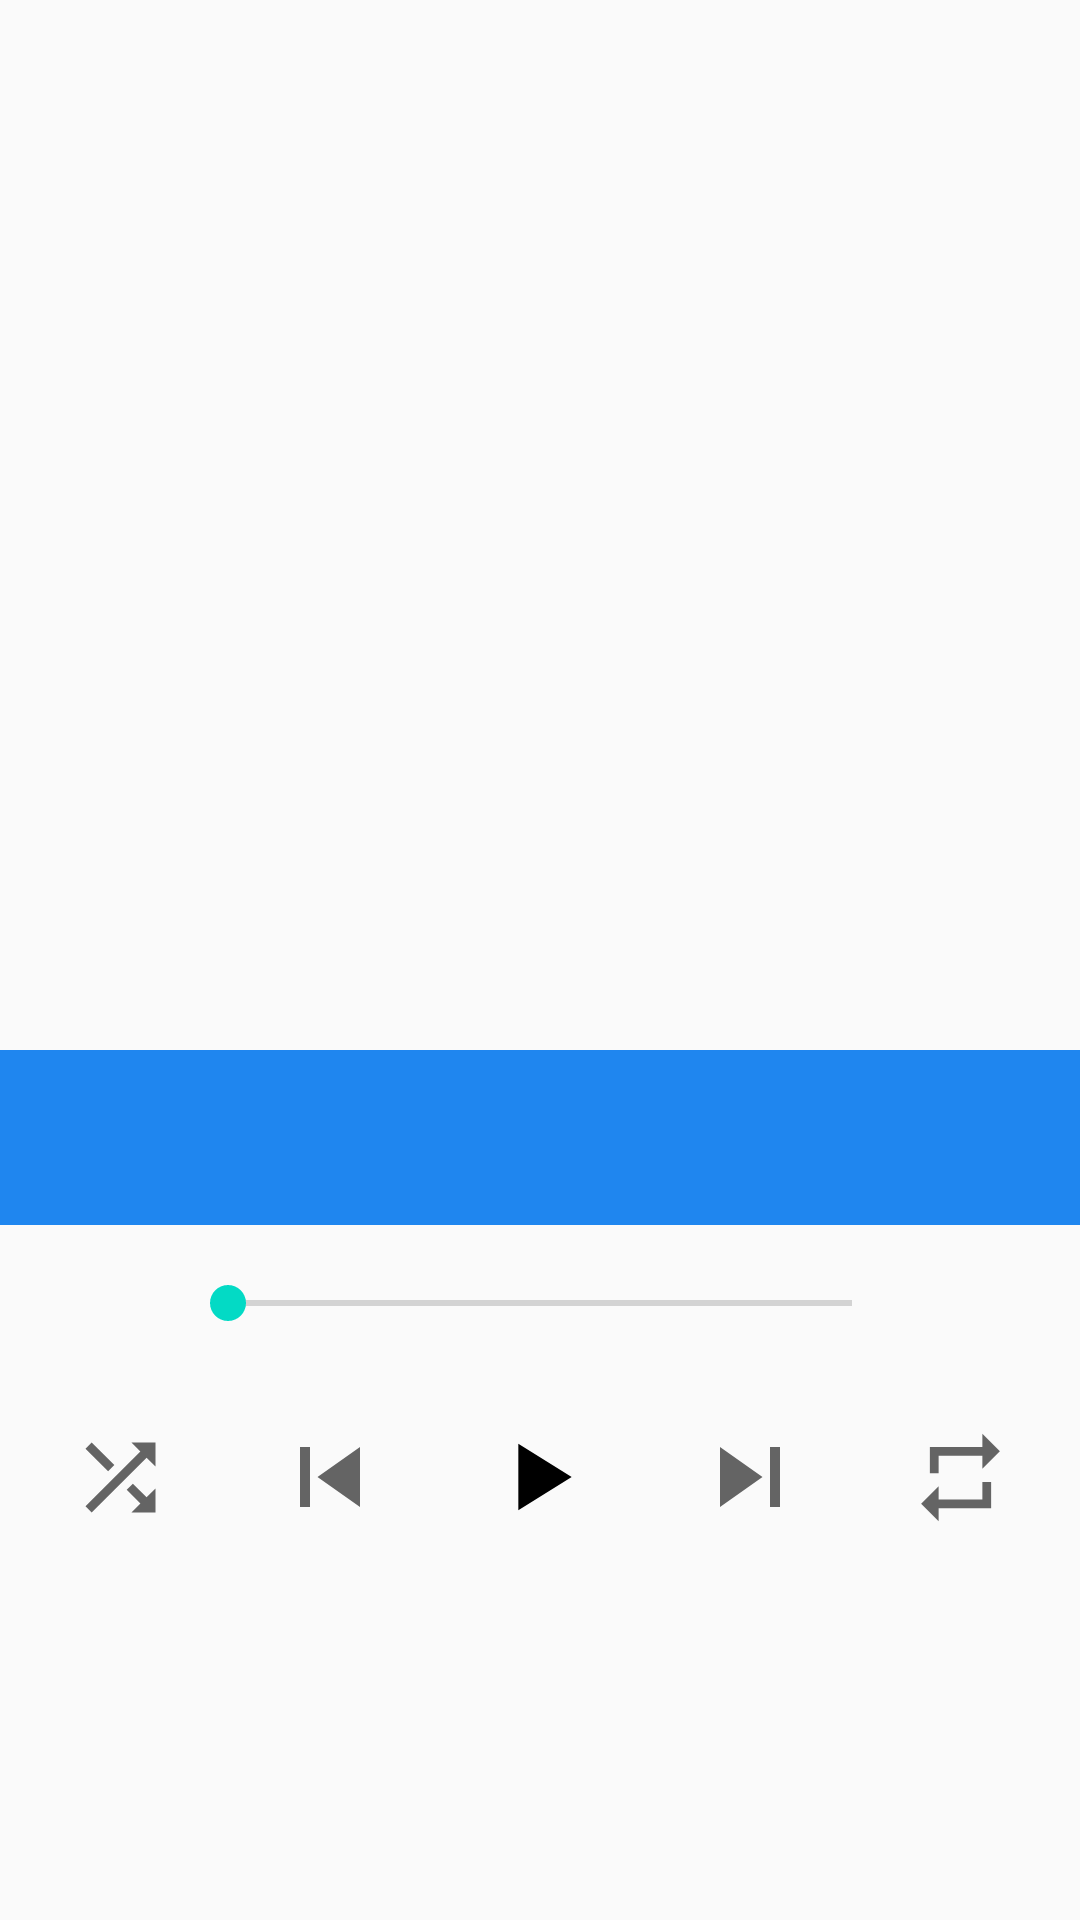

Named icons in this screenshot (1080px×1920px) and their centers, (x=x, y=y):
asl playpause: (x=545, y=1477)
repeat: (x=960, y=1477)
shuffle: (x=120, y=1477)
skip next: (x=750, y=1477)
skip previous: (x=330, y=1477)
